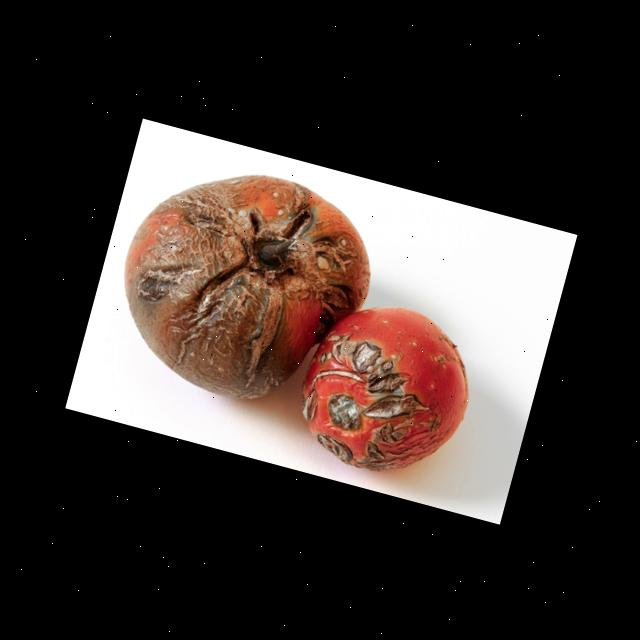tomato: (73, 124, 526, 502)
